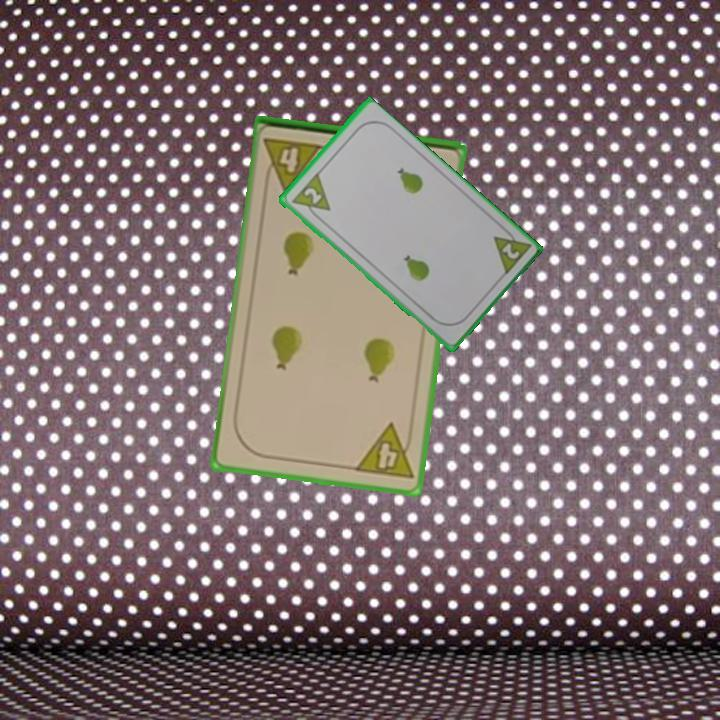2p: (489, 222, 533, 279), (287, 170, 333, 224)
4p: (351, 420, 417, 483), (260, 134, 326, 194)
